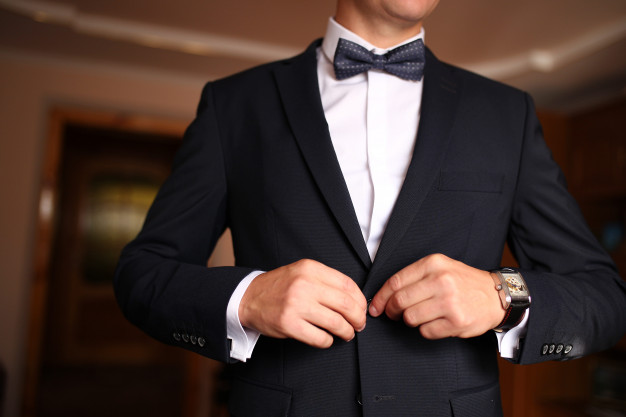bow: (319, 29, 428, 93)
